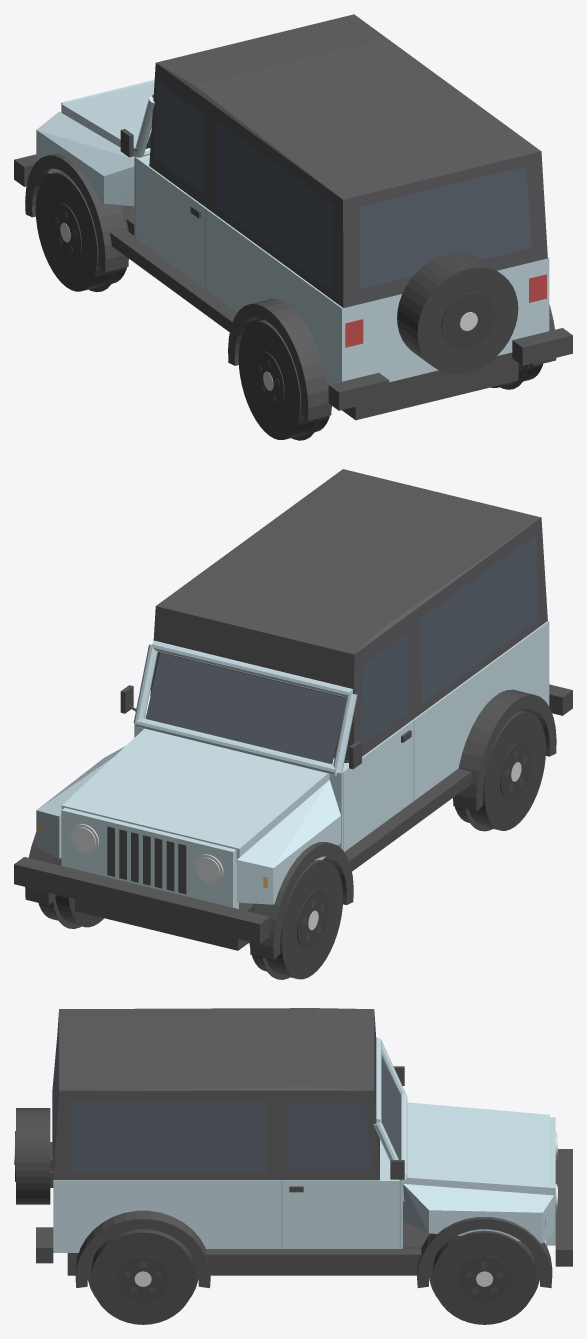
Rendered from g_wrangler_v2.glb.
The picture shows the model from 3 angles, top to bottom: view 1: azimuth 30°, elevation 25°; view 2: azimuth 150°, elevation 25°; view 3: azimuth 270°, elevation 25°; orthographic projection. The views are drawn at different scales.
Parts seen in each view (by area): view 1: p28, p1, p43, p30, p90, p3, p54, p46, p70, p0, p29, p44 (+8 smaller); view 2: p28, p2, p1, p27, p30, p19, p5, p3, p54, p70, p46, p29 (+13 smaller); view 3: p28, p1, p37, p2, p78, p62, p4, p36, p51, p53, p90, p0 (+11 smaller).
Part boxes in pixels (bbox=[...]): p28: bbox=[149, 14, 547, 307]; p1: bbox=[134, 155, 549, 384]; p43: bbox=[360, 166, 531, 289]; p30: bbox=[215, 120, 332, 290]; p90: bbox=[397, 252, 518, 373]; p3: bbox=[36, 111, 134, 206]; p54: bbox=[35, 172, 128, 291]; p46: bbox=[228, 299, 331, 420]; p70: bbox=[238, 319, 331, 439]; p0: bbox=[122, 205, 518, 420]; p29: bbox=[154, 81, 203, 193]; p44: bbox=[25, 154, 128, 272]; p28: bbox=[150, 469, 547, 760]; p2: bbox=[61, 728, 329, 862]; p1: bbox=[134, 621, 549, 851]; p27: bbox=[145, 653, 346, 764]; p30: bbox=[420, 534, 537, 704]; p19: bbox=[14, 857, 270, 943]; p5: bbox=[61, 808, 238, 908]; p3: bbox=[237, 780, 340, 904]; p54: bbox=[249, 860, 343, 979]; p70: bbox=[454, 710, 545, 830]; p46: bbox=[453, 689, 556, 811]; p29: bbox=[359, 632, 408, 744]; p28: bbox=[53, 1008, 379, 1180]; p1: bbox=[53, 1139, 402, 1252]; p37: bbox=[72, 1100, 267, 1172]; p2: bbox=[403, 1102, 549, 1201]; p78: bbox=[91, 1229, 194, 1324]; p62: bbox=[432, 1230, 536, 1324]; p4: bbox=[403, 1184, 554, 1243]; p36: bbox=[288, 1103, 371, 1170]; p51: bbox=[75, 1210, 210, 1288]; p53: bbox=[206, 1248, 421, 1264]; p90: bbox=[16, 1108, 50, 1204]; p0: bbox=[67, 1221, 430, 1275].
Size of the model in its own units: 1.68 by 1.77 by 3.88.
